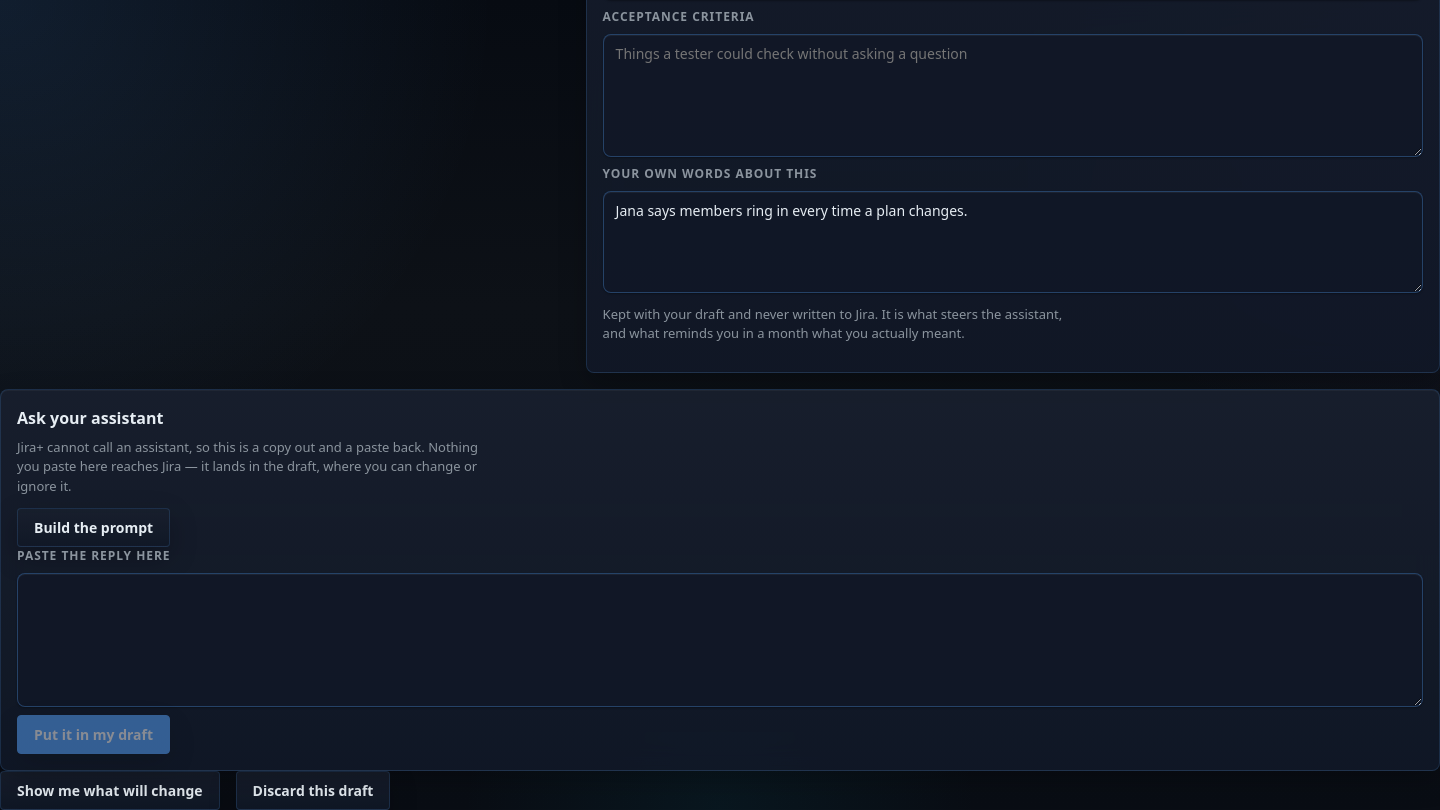
Test: before anything can be written › refuses a draft with no project or issue type, and says why
The width and height of the screenshot is (1440, 810).
(page scrolled)
Click the button "Show me what will change": (110, 790) [0,771,220,809]
(page scrolled)
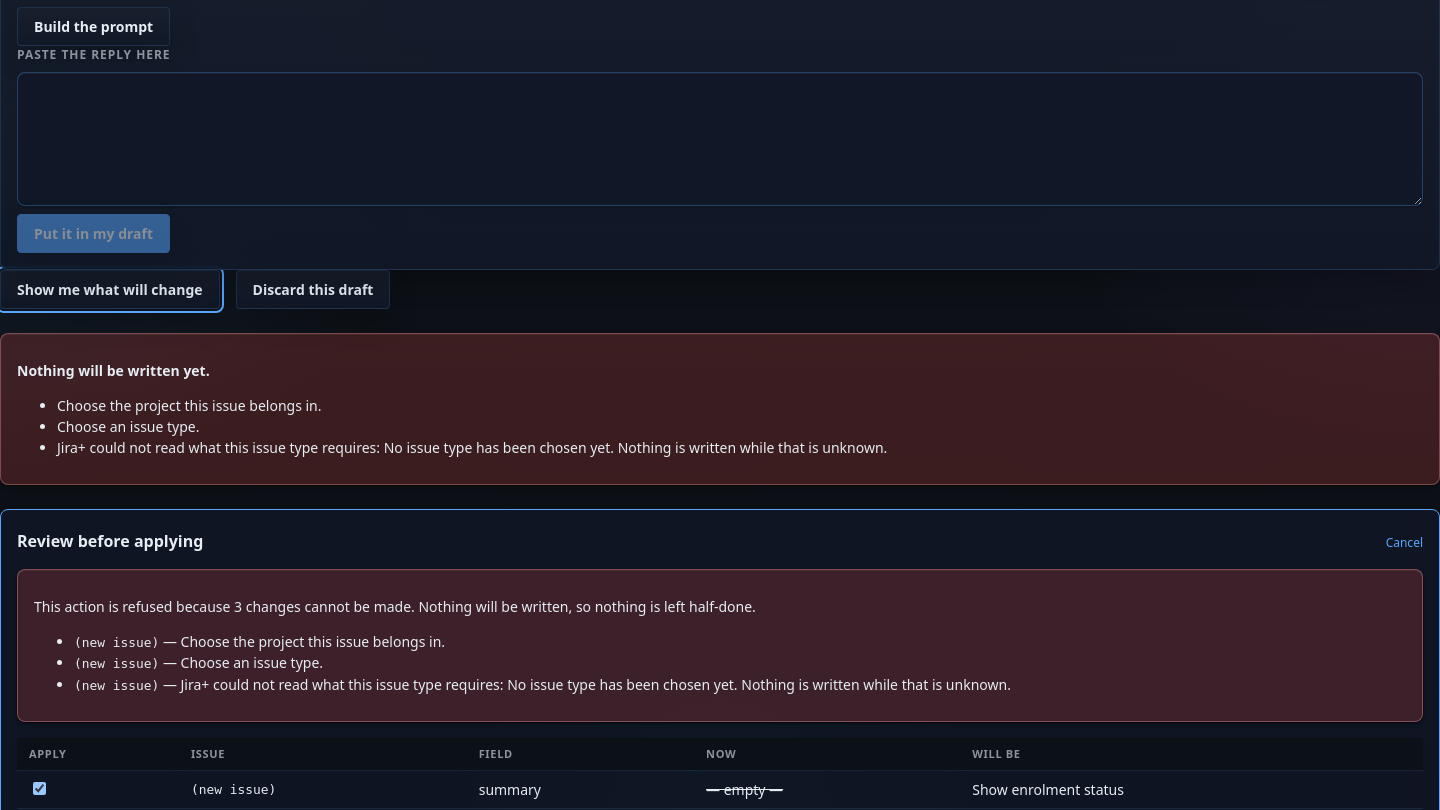
Check: the text "Nothing will be written yet." is shown, box [17,361,210,380]
Check: the list item "Choose the project this issue belongs in." is shown, box [57,396,322,415]
